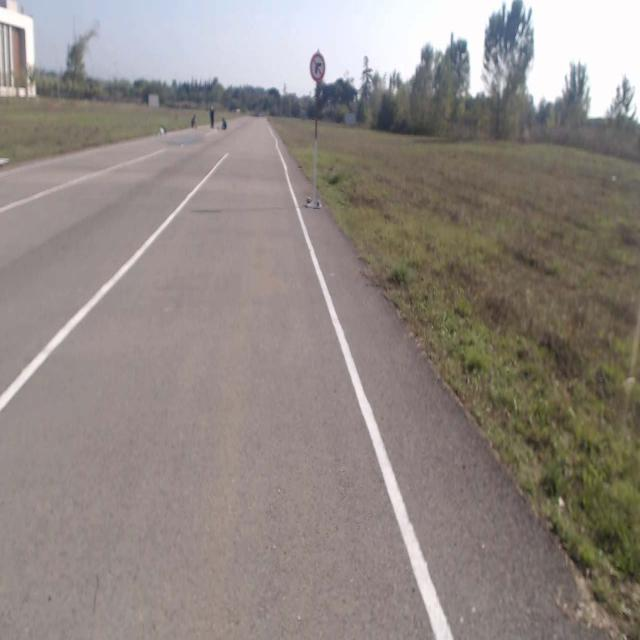sagadonulmez: (310, 52, 325, 80)
